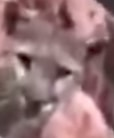Mountain Lion: (5, 8, 112, 137)
